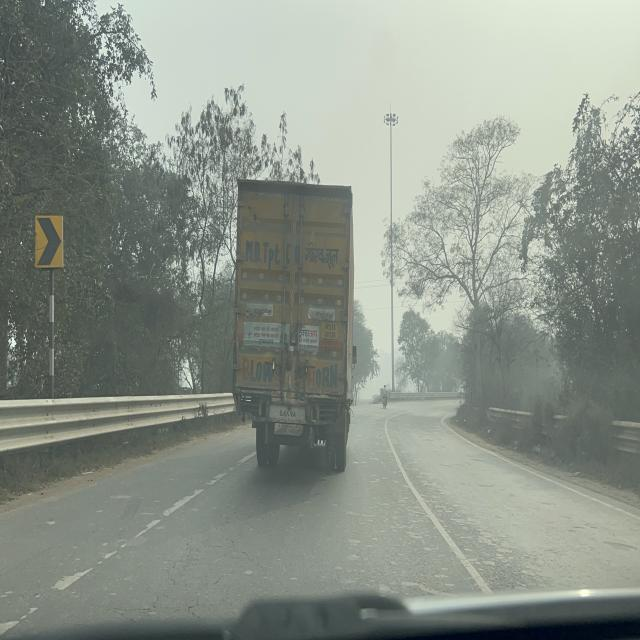TURN_RIGHT: (35, 214, 64, 268)
